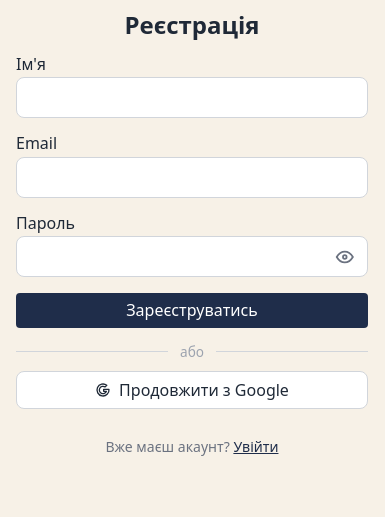
Scenario: RegisterPage › показує помилку для закороткого пароля
In the field labelled "Ім'я": x=192, y=98 [16,77,368,118], type "Аліна"
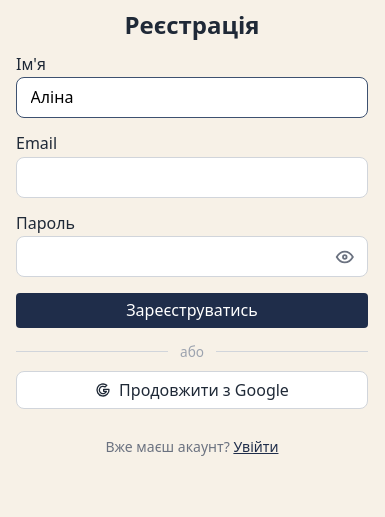
In the field labelled "Email": x=192, y=177 [16,156,368,198], type "alina@example.com"
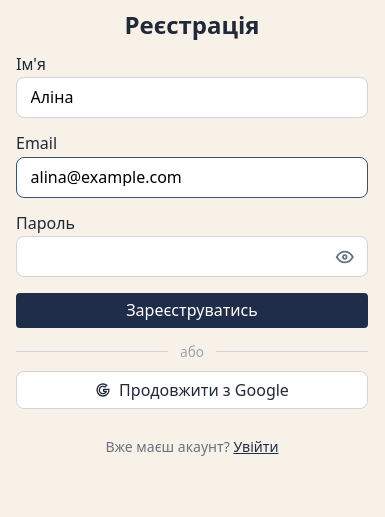
In the password field labelled "Пароль": x=192, y=257 [16,236,368,277], type "123"
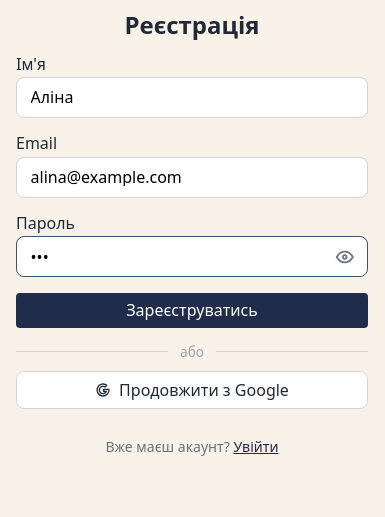
Click the button "Зареєструватись": x=192, y=310 [16,293,368,328]
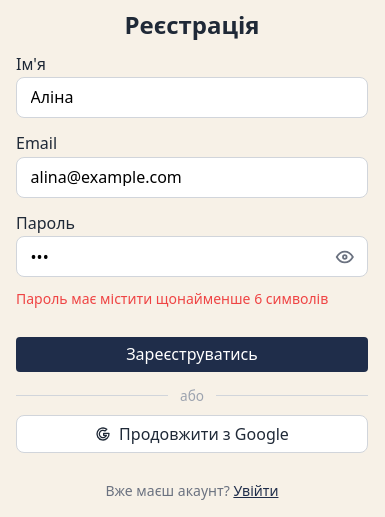
expect the text "Пароль має містити щонайменше 6 символів" is shown: met, box [16,291,368,307]
